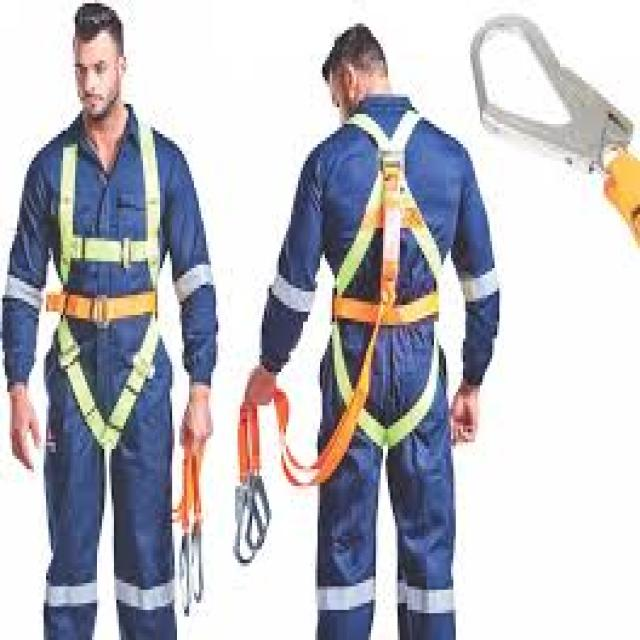harness: (227, 148, 420, 566), (172, 437, 220, 635)
